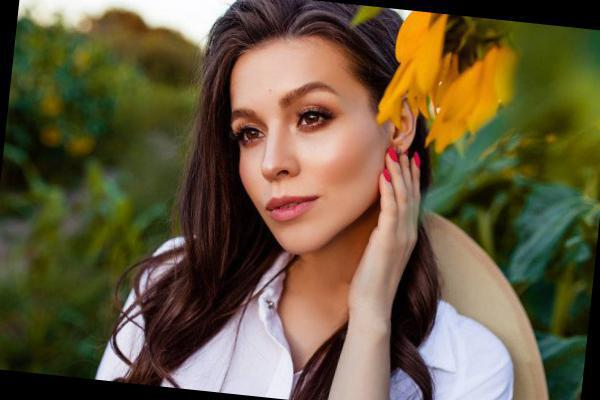Sober: (229, 58, 380, 236)
